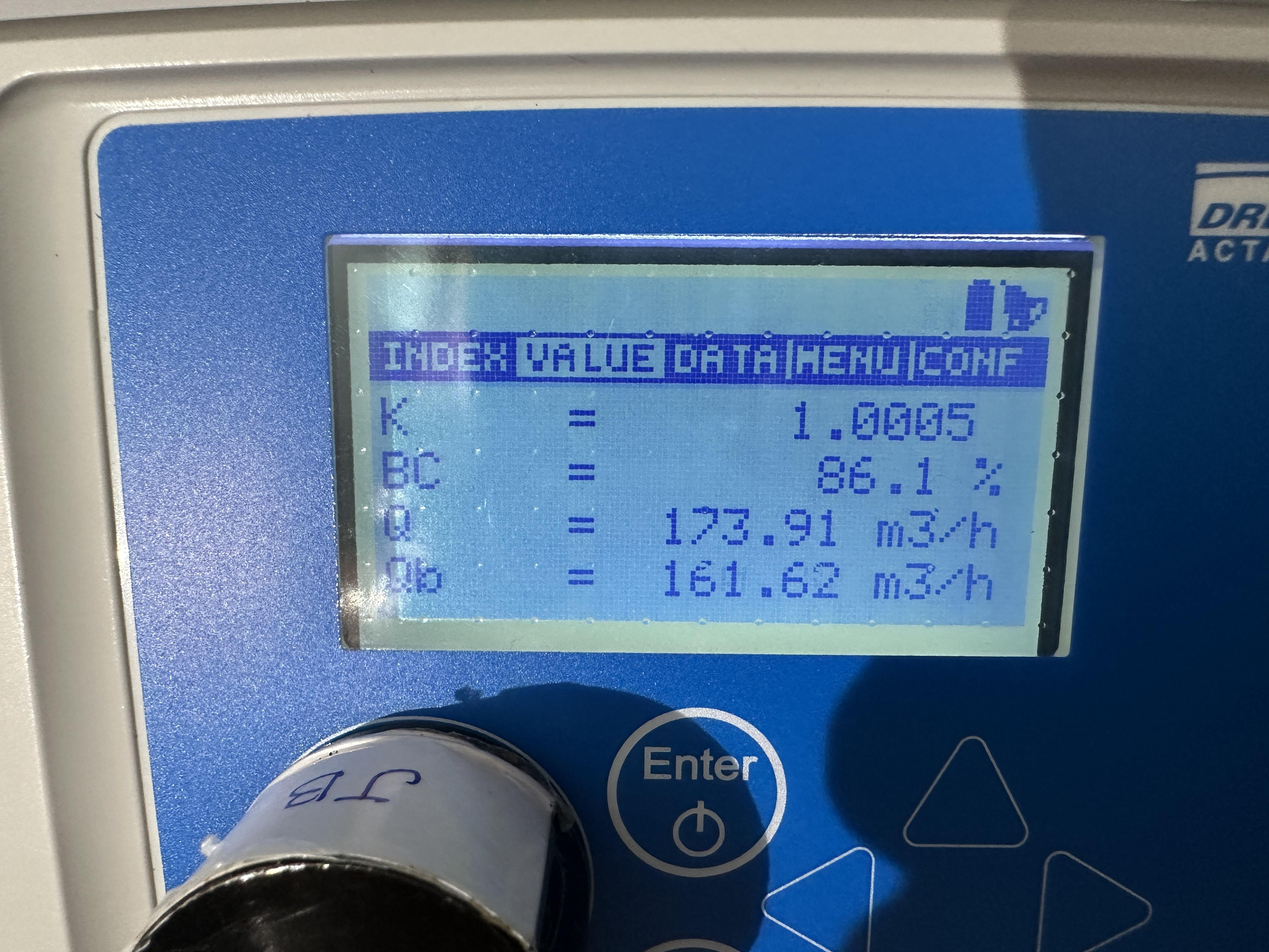digital_screen: (347, 260, 1068, 656)
